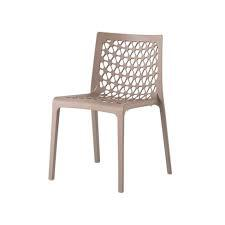chair: (32, 21, 185, 195)
